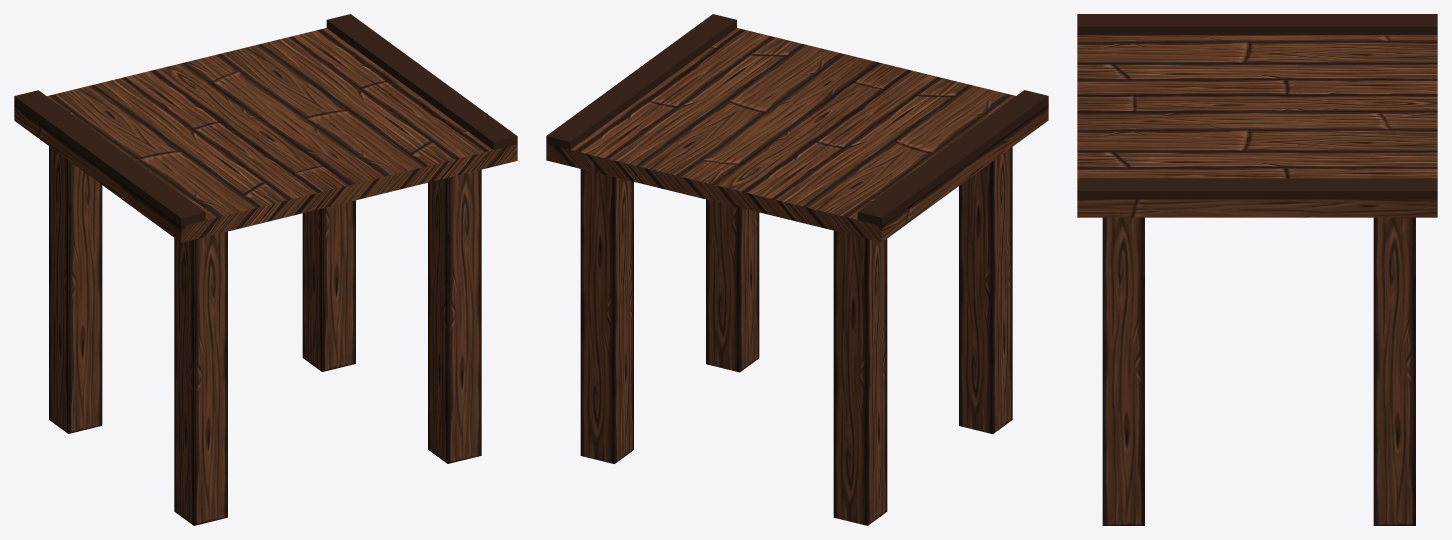
Rendered from Harbor Floor 1.fbx.
The picture shows the model from 3 angles, left to right: view 1: azimuth 30°, elevation 25°; view 2: azimuth 150°, elevation 25°; view 3: azimuth 270°, elevation 25°; orthographic projection. The views are drawn at different scales.
Parts seen in each view (by area): view 1: polySurface7; view 2: polySurface7; view 3: polySurface7.
Boxes of the visible parts, x1,y1,x2,y2 form: polySurface7: (14,14,517,525); polySurface7: (546,14,1048,525); polySurface7: (1077,14,1437,525).
Size of the model in its own units: 6.98 by 6.39 by 6.01.
Materials: 1 (1 with a texture image).
